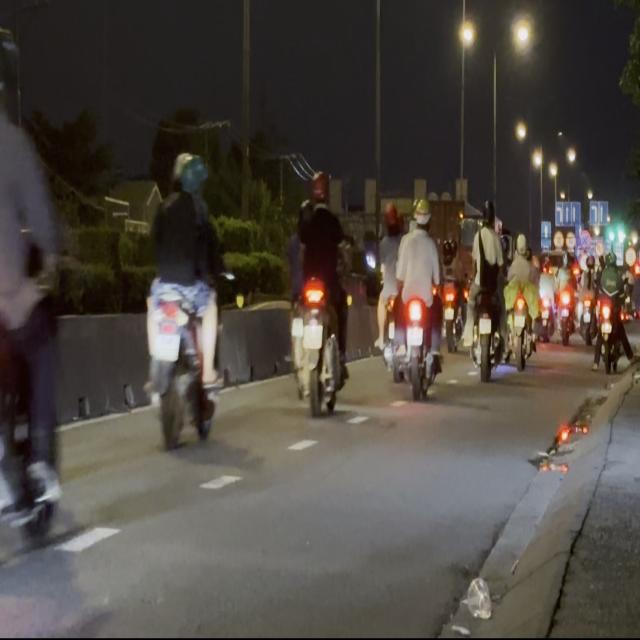helmet: (174, 151, 208, 202), (311, 170, 333, 210)
licenseplate: (0, 21, 72, 603), (140, 146, 225, 449), (286, 168, 351, 417)
nohelmet: (150, 331, 178, 358), (302, 322, 322, 348)
